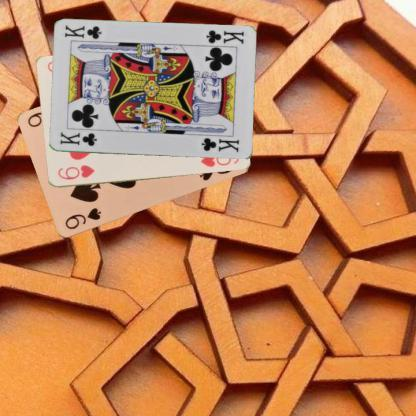6h: (55, 162, 96, 181)
9s: (62, 205, 102, 232)
Kc: (204, 27, 244, 46), (58, 130, 98, 147)
